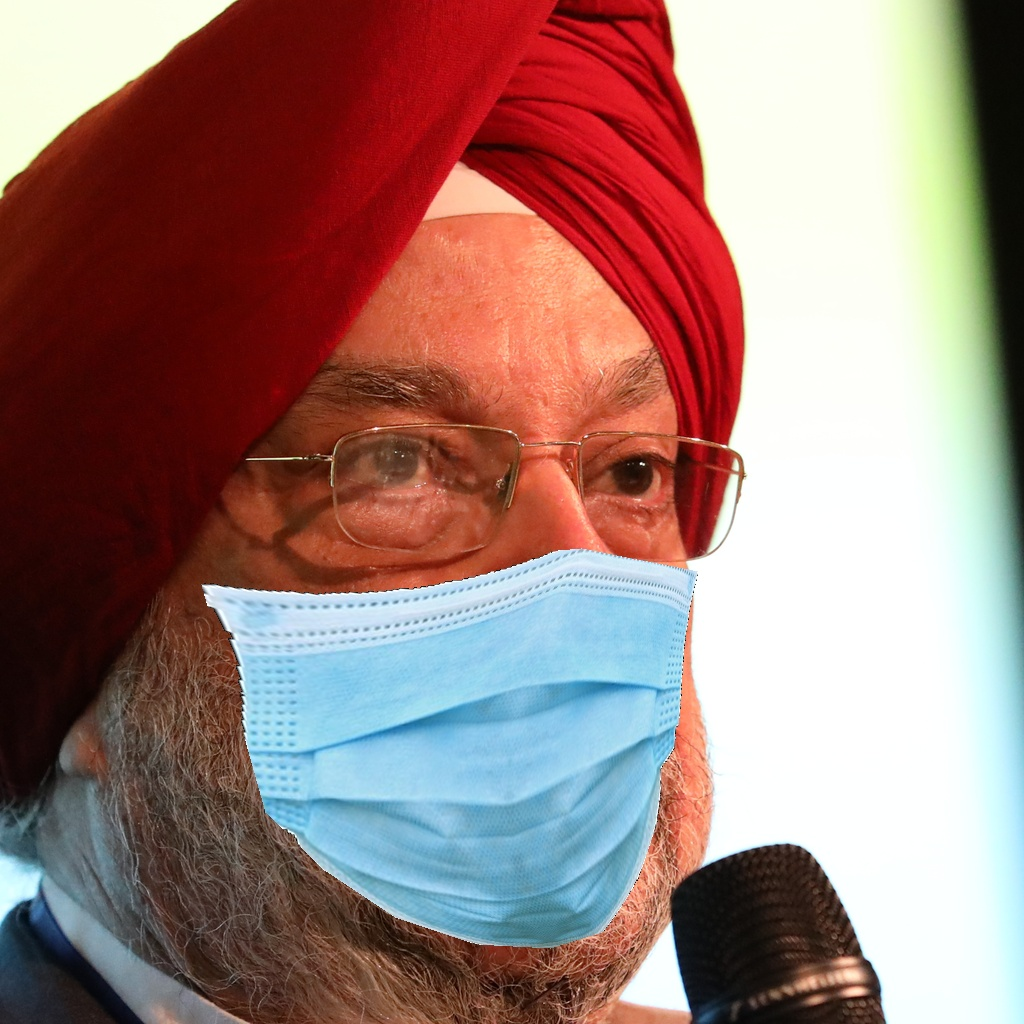Mask: (200, 295, 717, 947)
